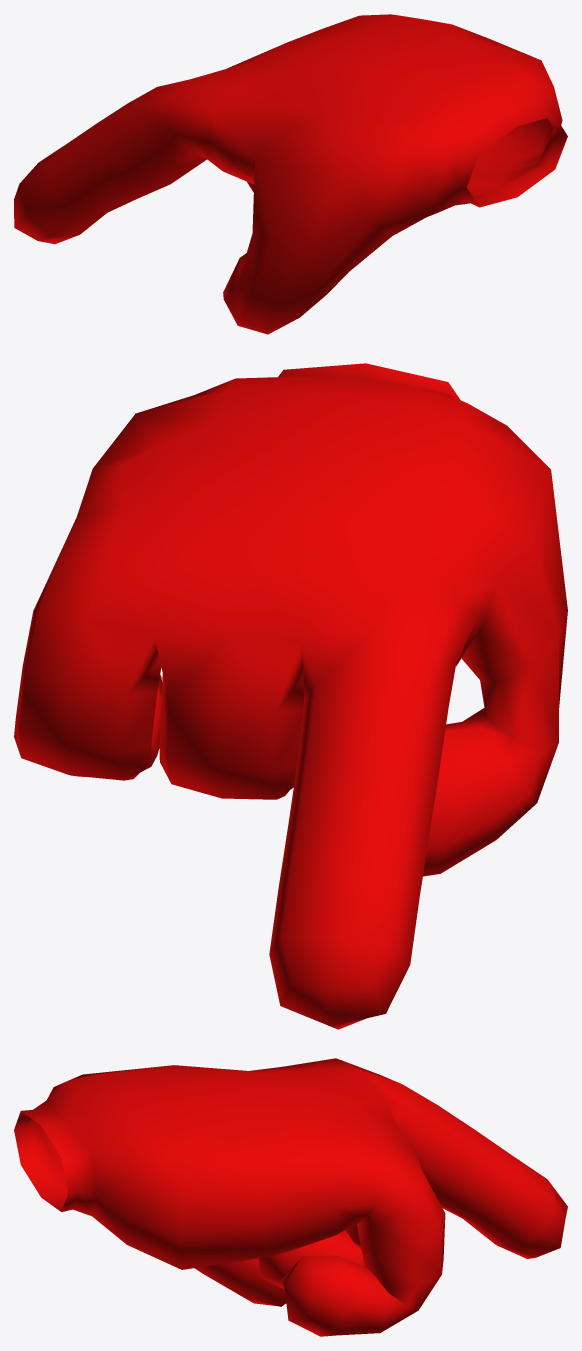
The model's file is Pointer_Hand_Right_Click.dae.
The picture shows the model from 3 angles, top to bottom: view 1: azimuth 30°, elevation 25°; view 2: azimuth 150°, elevation 25°; view 3: azimuth 270°, elevation 25°; orthographic projection. The views are drawn at different scales.
Visible parts, largest first — view 1: Cube; view 2: Cube; view 3: Cube.
Boxes of the visible parts, x1,y1,x2,y2 form: Cube: (14, 14, 567, 334); Cube: (14, 363, 567, 1029); Cube: (14, 1058, 567, 1336).
Bounding box in the file's own units: 0.0251 × 0.0326 × 0.0171.
